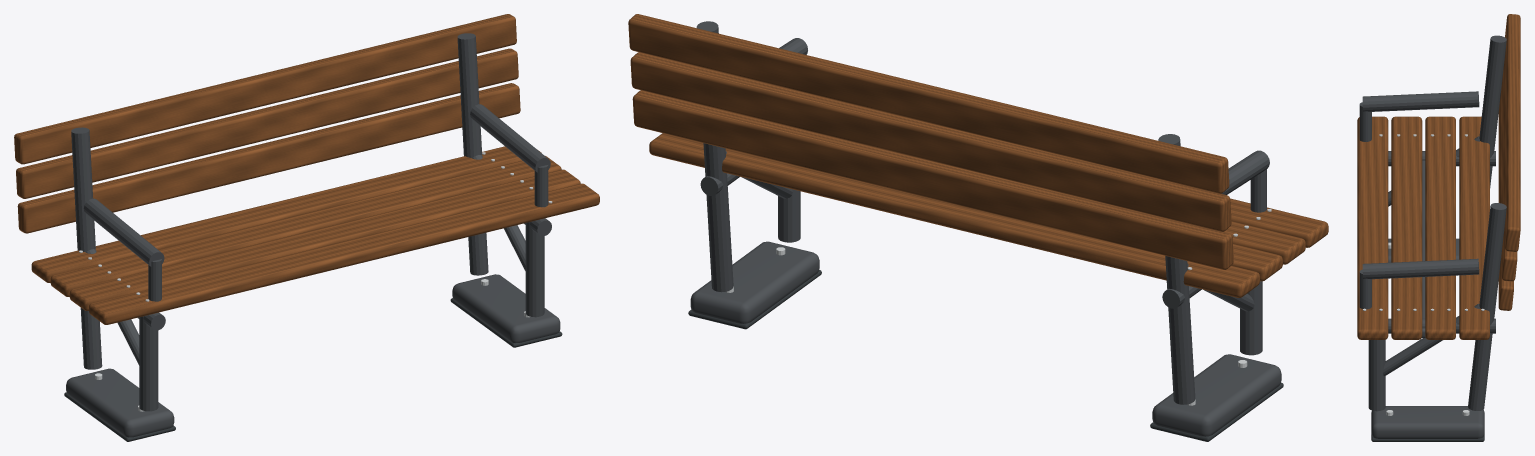
The model's file is r7a-lawka-miejska-drewno.glb.
3 renders of one model, left to right at view 1: azimuth 30°, elevation 25°; view 2: azimuth 150°, elevation 25°; view 3: azimuth 270°, elevation 25°, orthographic. The views are drawn at different scales.
Parts seen in each view (by area): view 1: W02 upper backrest plank 2, W02 upper backrest plank 1, W02 upper backrest plank 0, W00 hardwood seat plank 0, W00 hardwood seat plank 1, W00 hardwood seat plank 2, W00 hardwood seat plank 3, F00 cast ground shoe, F00 cast ground shoe.001, F04 angled rear support, F04 angled rear support.001, F03 front welded upright (+5 smaller); view 2: W02 upper backrest plank 2, W02 upper backrest plank 1, W02 upper backrest plank 0, W00 hardwood seat plank 3, F00 cast ground shoe, F00 cast ground shoe.001, F04 angled rear support.001, F04 angled rear support, W00 hardwood seat plank 0, W00 hardwood seat plank 1, F03 front welded upright, W00 hardwood seat plank 2 (+4 smaller); view 3: W00 hardwood seat plank 1, W00 hardwood seat plank 2, W00 hardwood seat plank 0, W00 hardwood seat plank 3, W02 upper backrest plank 2, F00 cast ground shoe.001, F04 angled rear support.001, F04 angled rear support, F07 curved handrail proxy, F07 curved handrail proxy.001, F03 front welded upright.001, W02 upper backrest plank 0 (+8 smaller).
Part boxes in pixels (x1,y1,x2,y2): W02 upper backrest plank 2: (14, 14, 516, 164); W02 upper backrest plank 1: (16, 48, 518, 198); W02 upper backrest plank 0: (17, 83, 520, 233); W00 hardwood seat plank 0: (89, 183, 599, 324); W00 hardwood seat plank 1: (69, 169, 580, 310); W00 hardwood seat plank 2: (50, 156, 561, 296); W00 hardwood seat plank 3: (31, 146, 541, 282); F00 cast ground shoe: (66, 368, 174, 437); F00 cast ground shoe.001: (452, 274, 560, 342); F04 angled rear support: (71, 127, 102, 369); F04 angled rear support.001: (457, 33, 488, 275); F03 front welded upright: (139, 316, 158, 411); W02 upper backrest plank 2: (628, 14, 1229, 193); W02 upper backrest plank 1: (630, 52, 1231, 231); W02 upper backrest plank 0: (632, 90, 1233, 269); W00 hardwood seat plank 3: (649, 133, 1259, 297); F00 cast ground shoe: (1152, 354, 1281, 436); F00 cast ground shoe.001: (690, 241, 819, 323); F04 angled rear support.001: (696, 21, 733, 292); F04 angled rear support: (1158, 134, 1195, 404); W00 hardwood seat plank 0: (1230, 198, 1328, 247); W00 hardwood seat plank 1: (1224, 221, 1305, 264); F03 front welded upright: (1240, 281, 1262, 355); W00 hardwood seat plank 2: (1231, 244, 1282, 281); W00 hardwood seat plank 1: (1391, 116, 1422, 339); W00 hardwood seat plank 2: (1425, 116, 1455, 339); W00 hardwood seat plank 0: (1357, 116, 1388, 339); W00 hardwood seat plank 3: (1459, 116, 1489, 339); W02 upper backrest plank 2: (1505, 14, 1520, 251); F00 cast ground shoe.001: (1371, 406, 1484, 438); F04 angled rear support.001: (1468, 203, 1506, 410); F04 angled rear support: (1479, 35, 1506, 187); F07 curved handrail proxy: (1362, 91, 1479, 111); F07 curved handrail proxy.001: (1362, 258, 1479, 279); F03 front welded upright.001: (1368, 339, 1385, 411); W02 upper backrest plank 0: (1498, 85, 1513, 310).
Size of the model in its own units: 1.8 by 0.888 by 0.5769.
4 materials, 1 textured.
